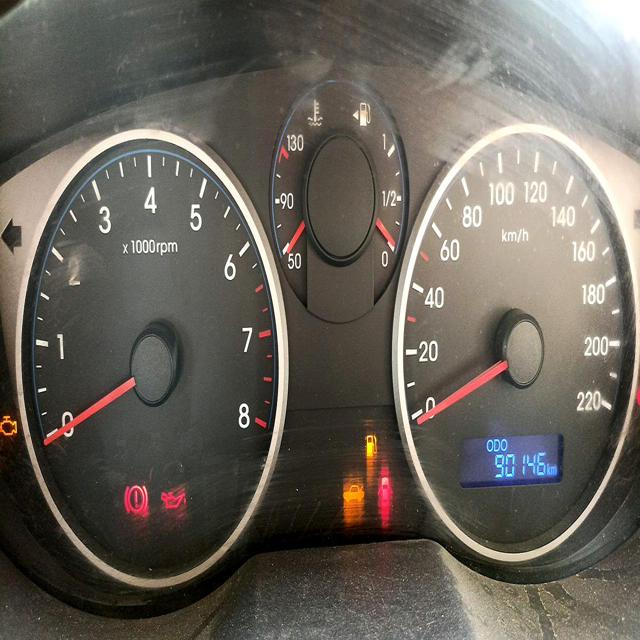odometer: (492, 448, 548, 480)
